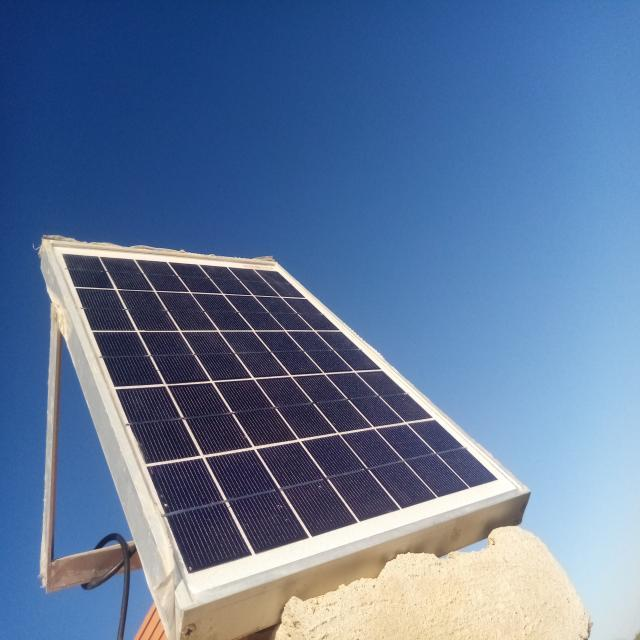no faulty: (46, 240, 523, 615)
